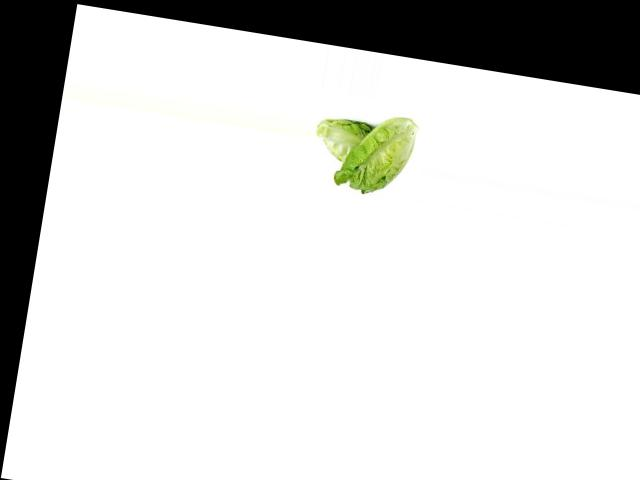lettuce: (309, 110, 375, 168)
